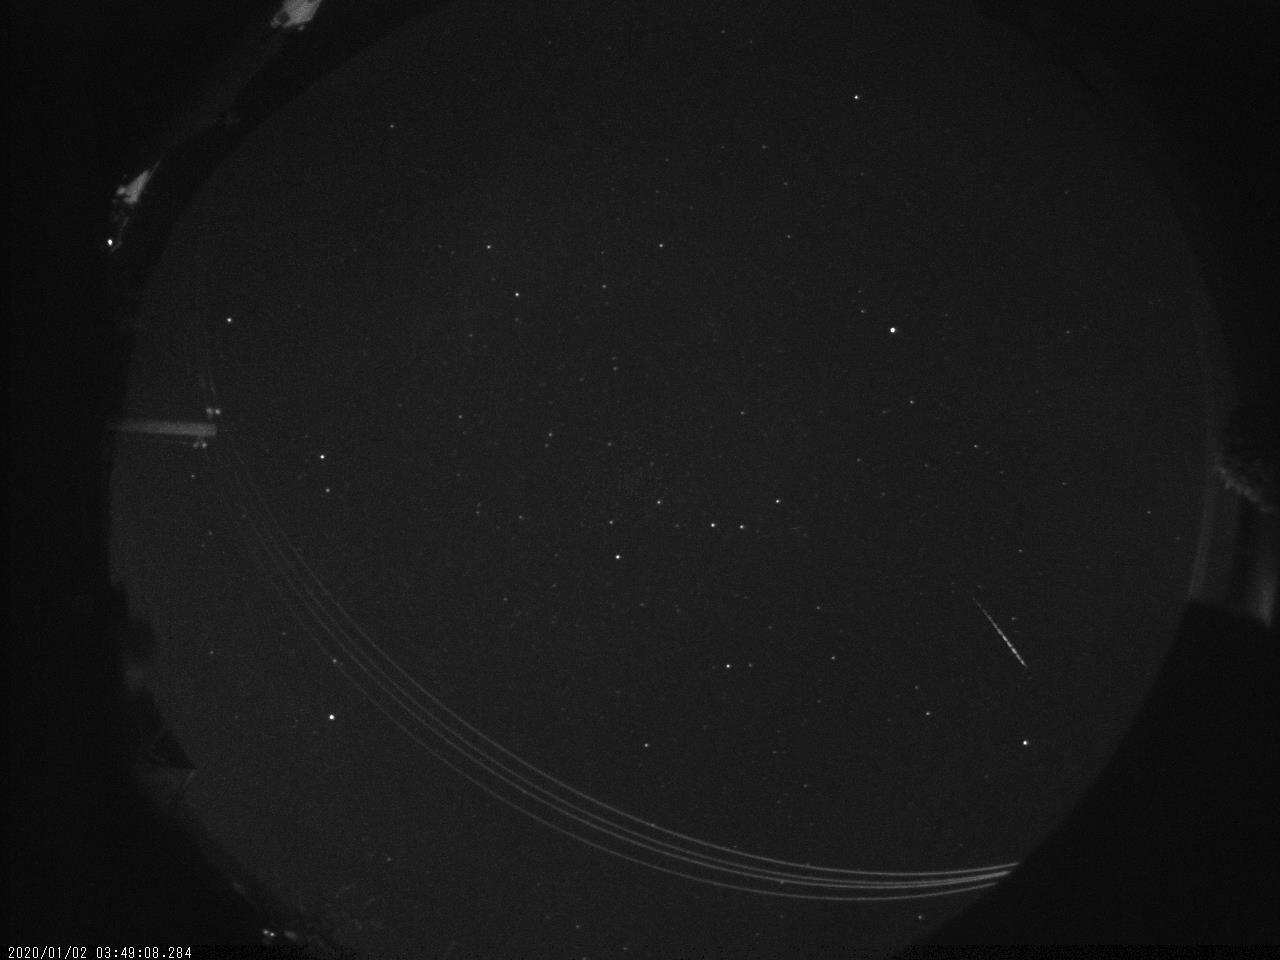Meteor: (966, 588, 1032, 674)
